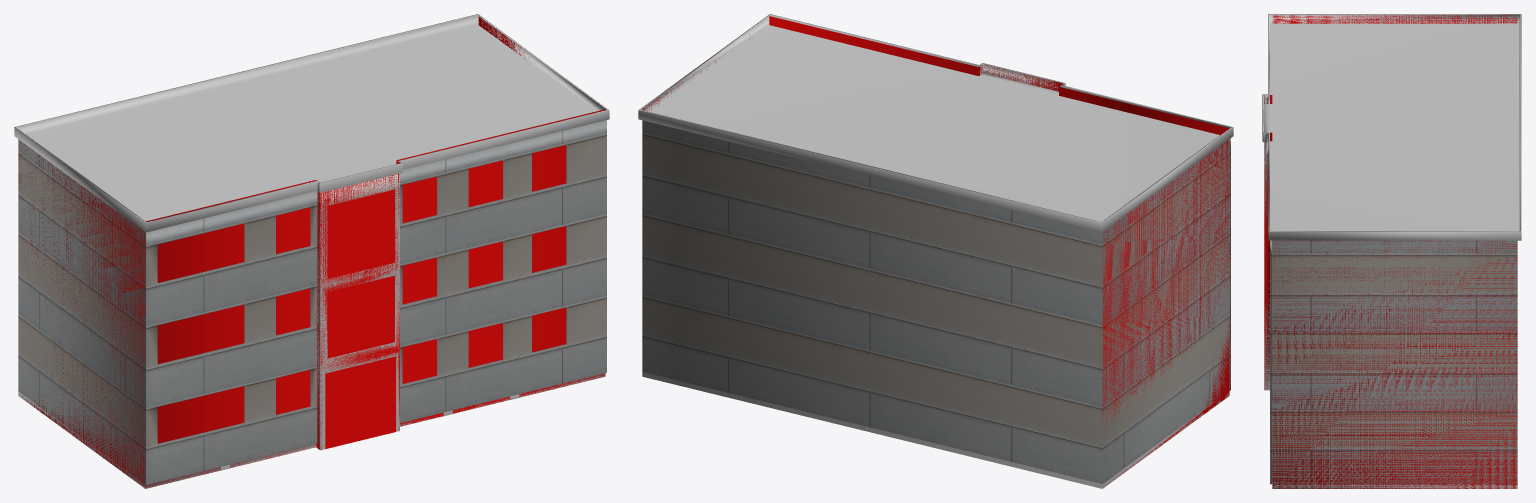
The model's file is mehrfamilienhaus_03_no_backside.fbx.
The picture shows the model from 3 angles, left to right: view 1: azimuth 30°, elevation 25°; view 2: azimuth 150°, elevation 25°; view 3: azimuth 270°, elevation 25°; orthographic projection. The views are drawn at different scales.
Visible parts, largest first — view 1: mehrfamilienhaus_03_no_backside, colmesh; view 2: mehrfamilienhaus_03_no_backside, colmesh; view 3: mehrfamilienhaus_03_no_backside, colmesh.
Part boxes in pixels (x1,y1,x2,y2): mehrfamilienhaus_03_no_backside: (14, 14, 609, 488); colmesh: (18, 16, 605, 488); mehrfamilienhaus_03_no_backside: (638, 14, 1233, 488); colmesh: (642, 16, 1229, 487); mehrfamilienhaus_03_no_backside: (1262, 14, 1521, 488); colmesh: (1264, 15, 1517, 488).
Bounding box in the file's own units: 1346 × 742 × 677.
